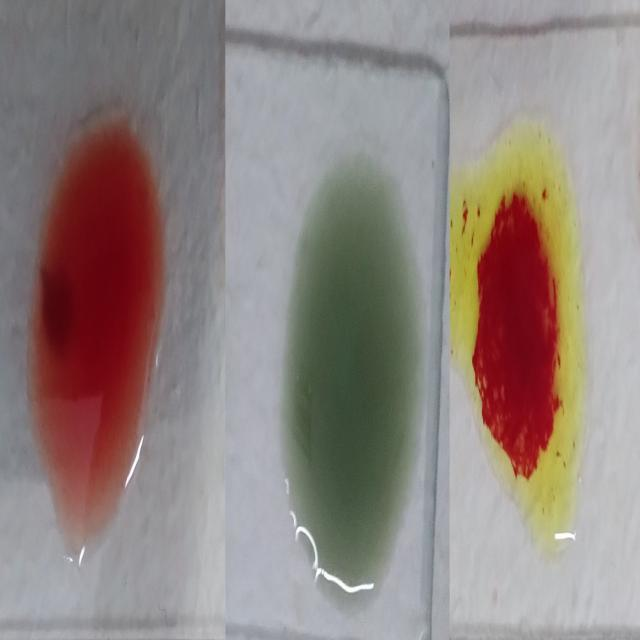B: (461, 116, 587, 542)
